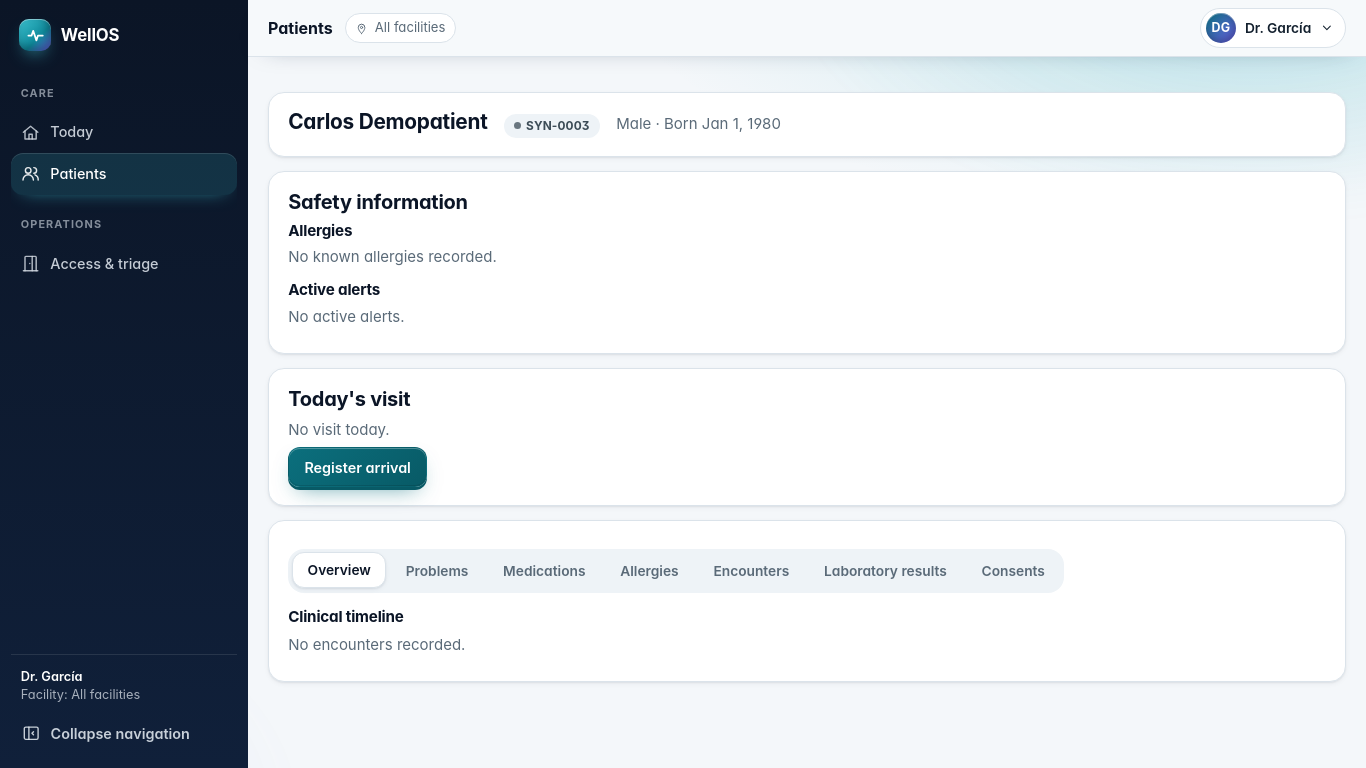
Test: patient chart clinical actions › registers an arrival for this patient from the chart without a patient search
Later steps or results of the test are not shown.
Expected: the text "No visit today." is shown, [288, 420, 390, 438]
Click the button "Register arrival".
click(358, 467)  # box [288, 447, 427, 487]
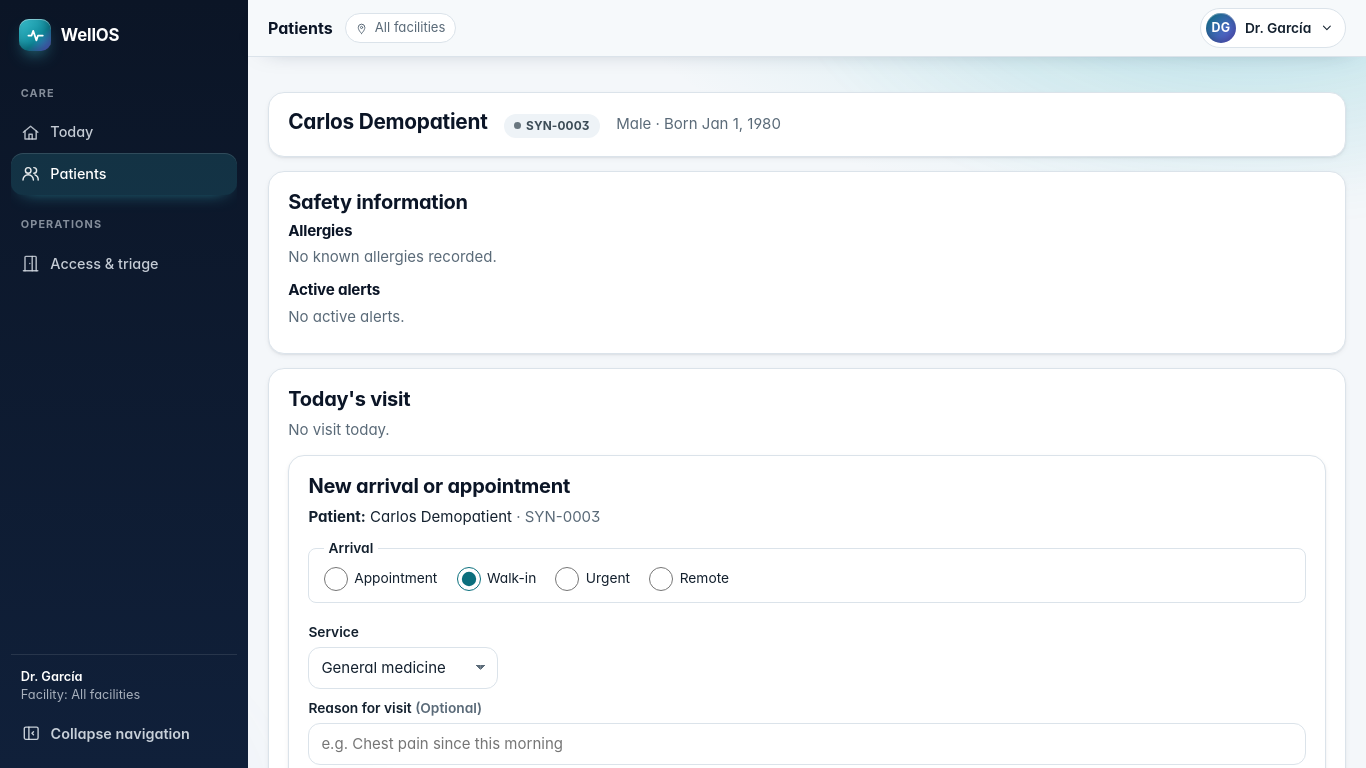
Expected: the text "Carlos Demopatient" is shown, [370, 507, 512, 526]
